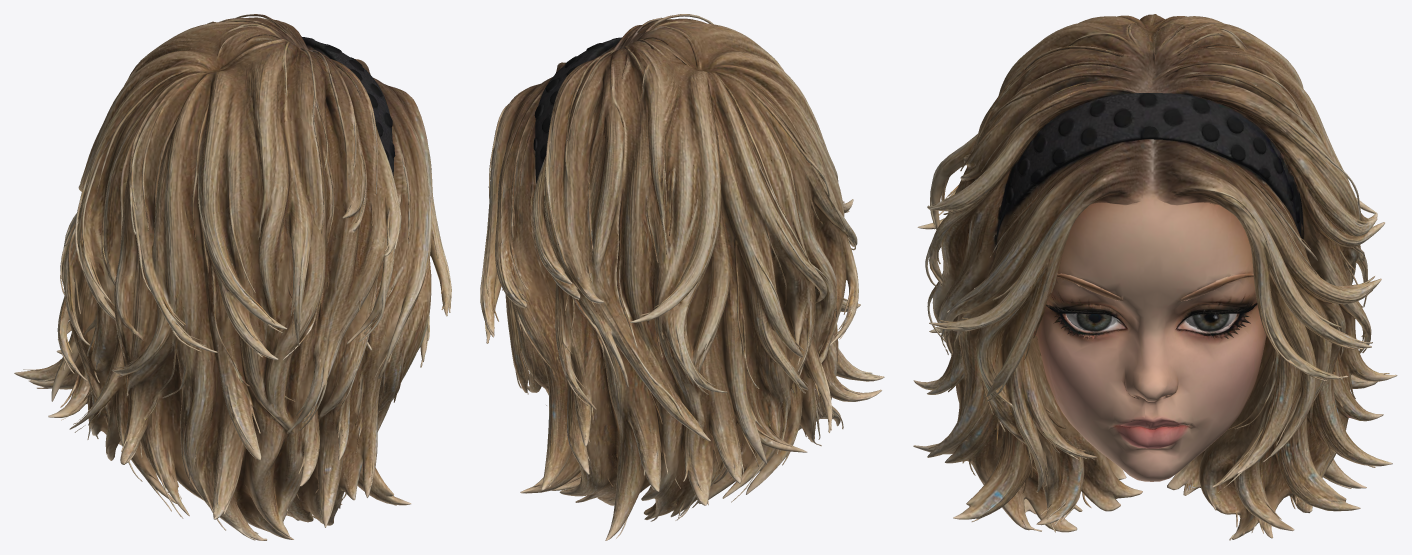
The model's file is borky-head.glb.
3 views of the same model, side by side, from view 1: azimuth 30°, elevation 25°; view 2: azimuth 150°, elevation 25°; view 3: azimuth 270°, elevation 25° (orthographic). The views are drawn at different scales.
Bounding box in the file's own units: 0.7579 × 0.9994 × 0.8715.
Materials: 1 (1 with a texture image).
